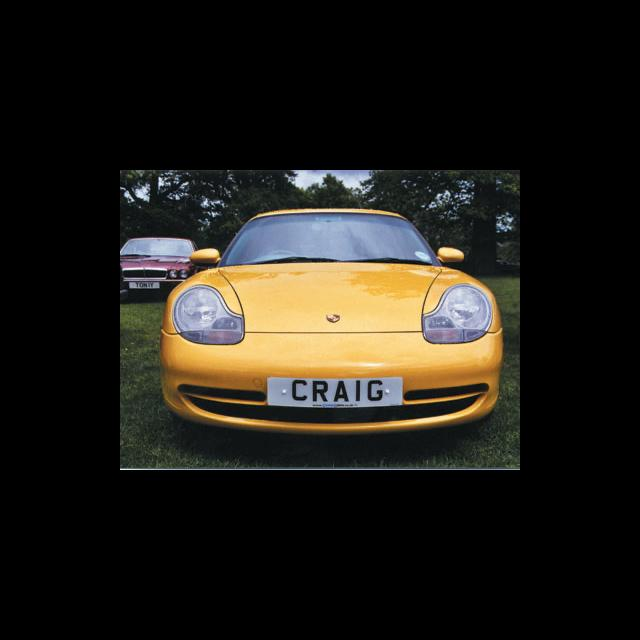Plate: (265, 374, 403, 409)
